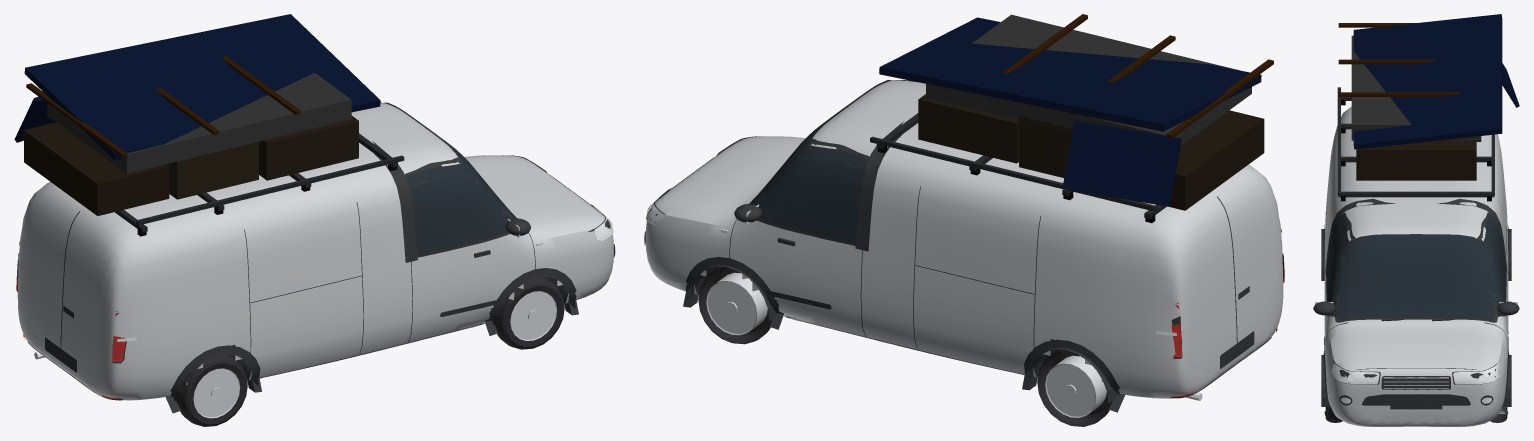
The model's file is pro_charge.glb.
3 views of the same model, side by side, from view 1: azimuth 30°, elevation 25°; view 2: azimuth 150°, elevation 25°; view 3: azimuth 270°, elevation 25° (orthographic). The views are drawn at different scales.
Parts seen in each view (by area): view 1: Body, Tarp, Mattress, LoadBox2, Glass-1, LoadBox0, WheelRR, WheelFR, LoadBox1, RackRail-1, ArchTrim-1.001, Bpillar-1 (+5 smaller); view 2: Body, Tarp, Mattress, TarpFlap, Glass1, LoadBox2, LoadBox0, WheelFL, WheelRL, LoadBox1, RackRail1, ArchTrim1.001 (+5 smaller); view 3: Body, Tarp, Windshield, LoadBox0, Mattress, Glass1, Glass-1, Intake, HeadReflector, RackBar0.3, Grille, WsFrame (+14 smaller).
Boxes of the visible parts, x1,y1,x2,y2 form: Body: (17, 103, 613, 400); Tarp: (24, 14, 380, 160); Mattress: (47, 72, 351, 173); LoadBox2: (24, 122, 169, 216); Glass-1: (406, 163, 516, 256); LoadBox0: (259, 115, 358, 180); WheelRR: (177, 354, 247, 426); WheelFR: (495, 277, 564, 349); LoadBox1: (166, 141, 258, 199); RackRail-1: (136, 155, 404, 225); ArchTrim-1.001: (165, 345, 261, 413); Bpillar-1: (372, 141, 417, 262); Body: (645, 80, 1283, 398); Tarp: (879, 17, 1261, 131); Mattress: (926, 14, 1251, 145); TarpFlap: (1062, 120, 1181, 206); Glass1: (750, 145, 867, 244); LoadBox2: (1169, 110, 1264, 210); LoadBox0: (918, 94, 1018, 163); WheelFL: (698, 266, 772, 344); WheelRL: (1037, 349, 1112, 426); LoadBox1: (1019, 115, 1072, 177); RackRail1: (870, 136, 1156, 211); ArchTrim1.001: (1022, 339, 1124, 412); Body: (1324, 106, 1508, 426); Tarp: (1353, 14, 1502, 149); Windshield: (1338, 234, 1494, 320); LoadBox0: (1356, 140, 1476, 180); Mattress: (1351, 35, 1481, 140); Glass1: (1472, 214, 1506, 315); Glass-1: (1326, 214, 1357, 315); Intake: (1362, 394, 1470, 405); HeadReflector: (1331, 363, 1500, 384); RackBar0.3: (1338, 191, 1494, 197); Grille: (1381, 376, 1450, 389); WsFrame: (1335, 234, 1497, 322).
Size of the model in its own units: 5.02 by 2.83 by 2.15.
